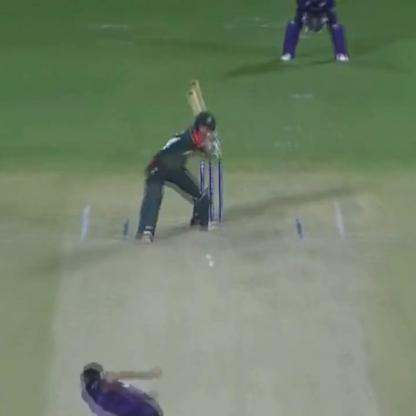ball: (202, 260, 222, 270), (197, 251, 214, 261)
bat: (177, 76, 229, 153)
pitch: (31, 178, 373, 415)
